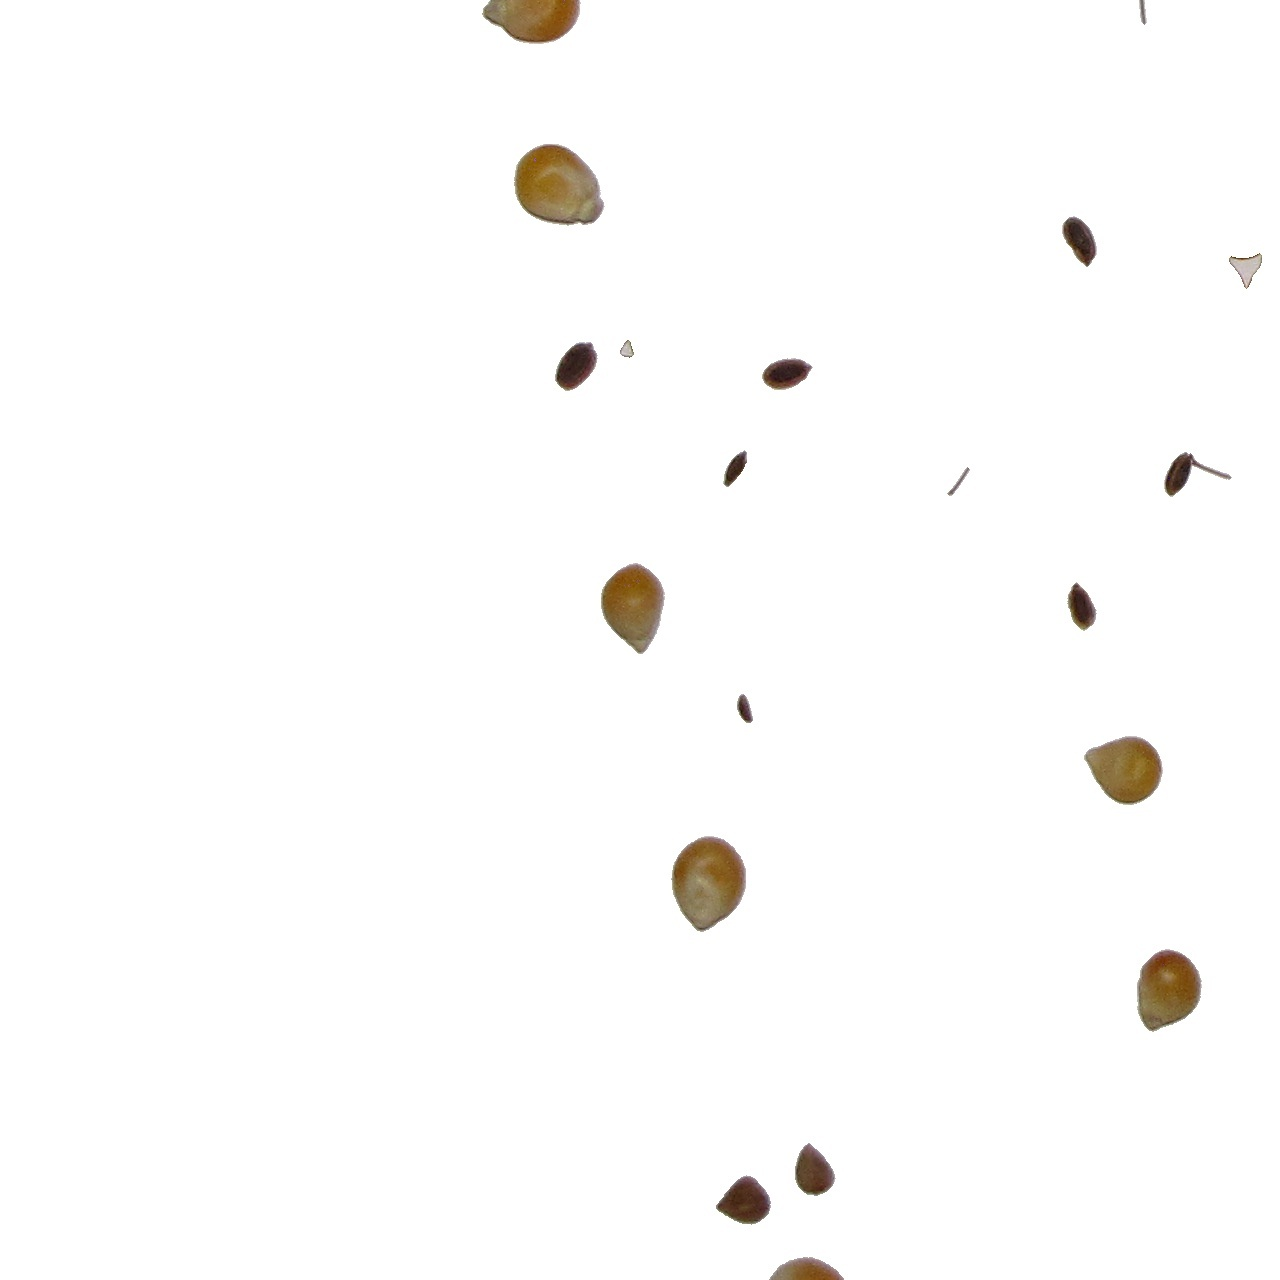buckwheat: (715, 1175, 772, 1226), (794, 1142, 837, 1197), (554, 341, 599, 392), (1061, 215, 1098, 268), (761, 358, 813, 392), (1065, 584, 1098, 635), (726, 451, 753, 501), (1228, 252, 1262, 290), (946, 467, 971, 497), (619, 339, 635, 359)
dill: (1163, 451, 1233, 498)
mais: (513, 143, 606, 227), (670, 835, 747, 933), (600, 561, 666, 655), (1083, 735, 1164, 806), (1136, 948, 1203, 1033), (486, 1, 583, 47), (757, 1257, 849, 1280)
other: (736, 693, 754, 724)
